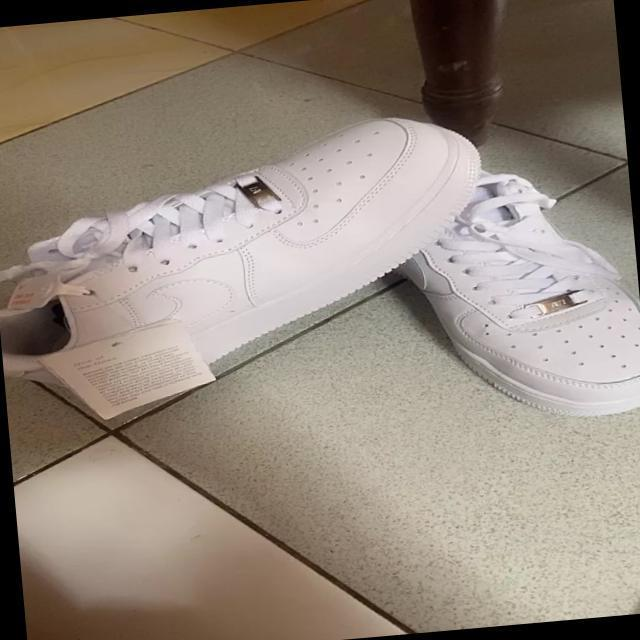nike fake air force: (0, 108, 504, 441), (341, 162, 640, 438)
